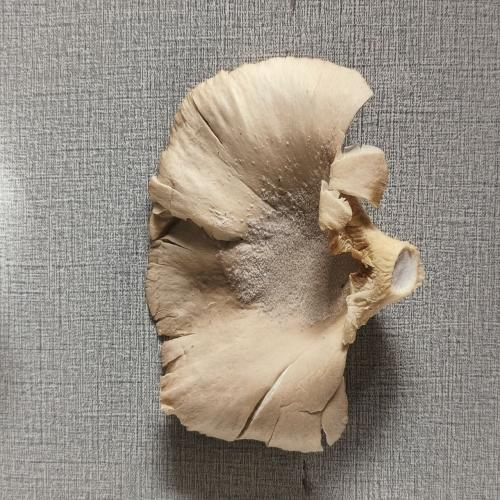Oyster Mushroom: (147, 58, 423, 451)
